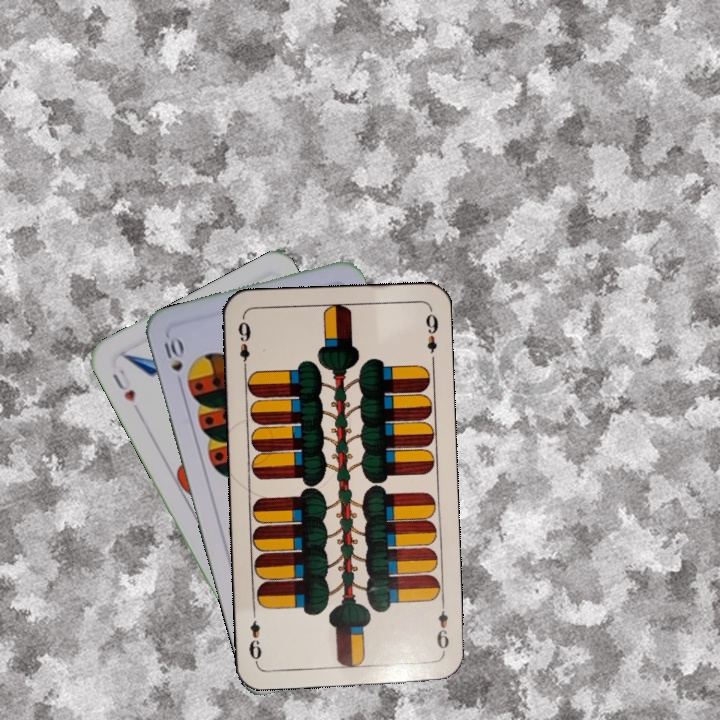E9: (234, 314, 253, 373), (433, 597, 452, 656)
HU: (108, 364, 138, 405)
S10: (160, 332, 186, 374)
